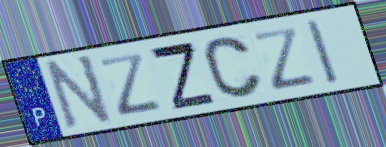C: (201, 35, 266, 101)
I: (303, 17, 343, 88)
N: (44, 52, 115, 132)
Z: (146, 39, 219, 112), (95, 50, 165, 118), (249, 24, 319, 92)
